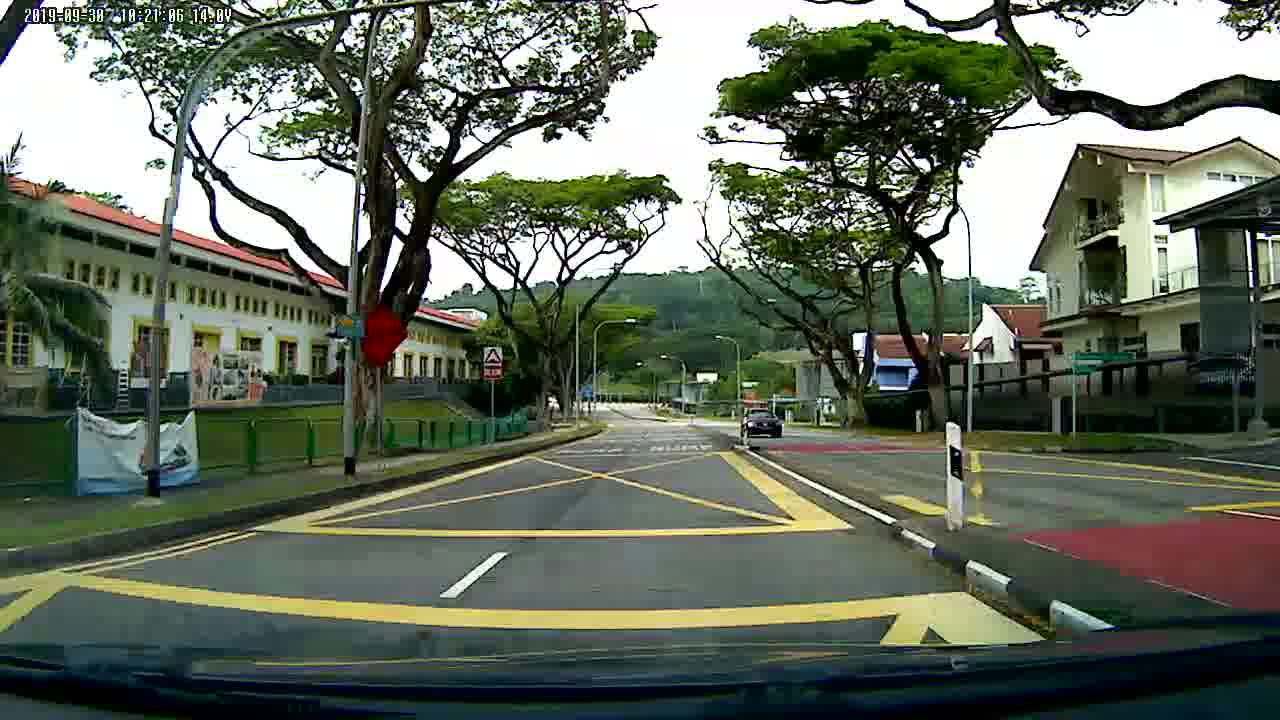car: (735, 405, 787, 439)
